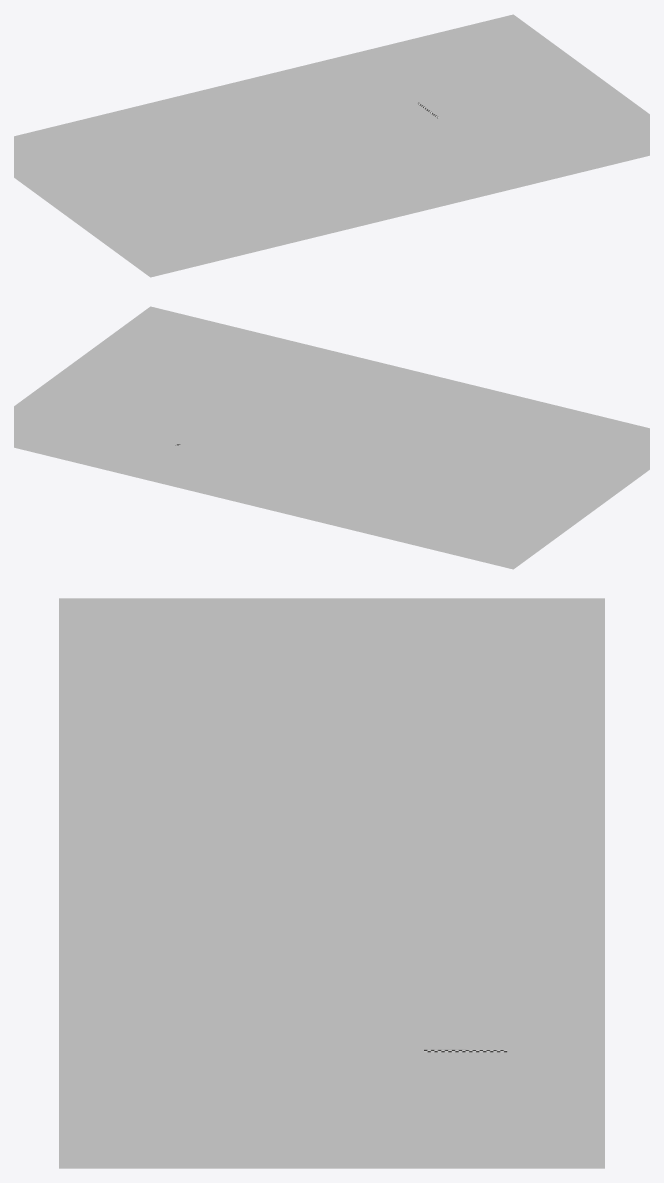
File: 2022_summit_speedway_ccw.dae
3 views of the same model, one above another, from view 1: azimuth 30°, elevation 25°; view 2: azimuth 150°, elevation 25°; view 3: azimuth 270°, elevation 25° (orthographic). The views are drawn at different scales.
Visible parts, largest first — view 1: wall, field, road, ol, il, cl; view 2: wall, field, road, ol, il; view 3: field, wall, road, il, ol, cl.
Boxes of the visible parts, box(x1,y1,x2,y2) form: wall: box(14, 14, 649, 277); field: box(57, 56, 606, 235); road: box(93, 91, 573, 231); ol: box(135, 109, 538, 214); il: box(90, 90, 576, 233); cl: box(114, 100, 556, 223); wall: box(14, 306, 649, 569); field: box(57, 348, 606, 518); road: box(100, 377, 556, 527); ol: box(139, 395, 516, 519); il: box(97, 376, 559, 495); field: box(59, 681, 604, 1085); wall: box(59, 598, 604, 1168); road: box(136, 713, 528, 1085); il: box(129, 710, 535, 1085); ol: box(219, 748, 444, 1085); cl: box(176, 730, 487, 1085).
Bounding box in the file's own units: 12.65 × 5.99 × 1.
